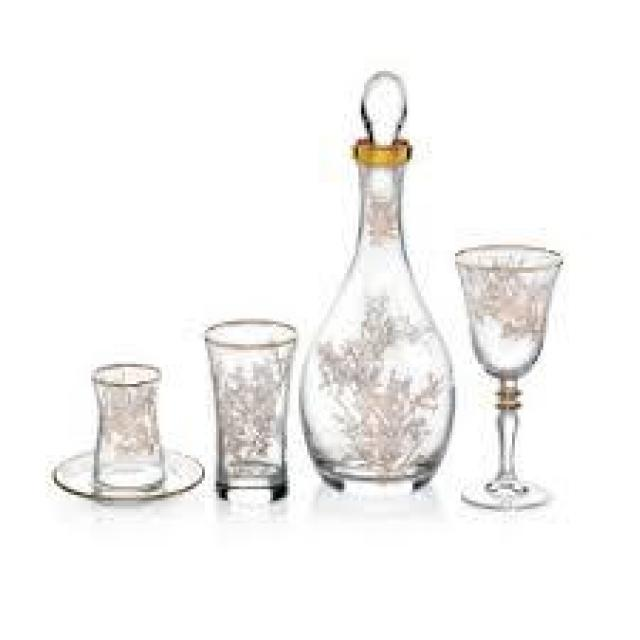non-organic waste: (300, 70, 454, 493), (450, 241, 564, 514), (47, 358, 206, 501), (201, 317, 300, 502)
